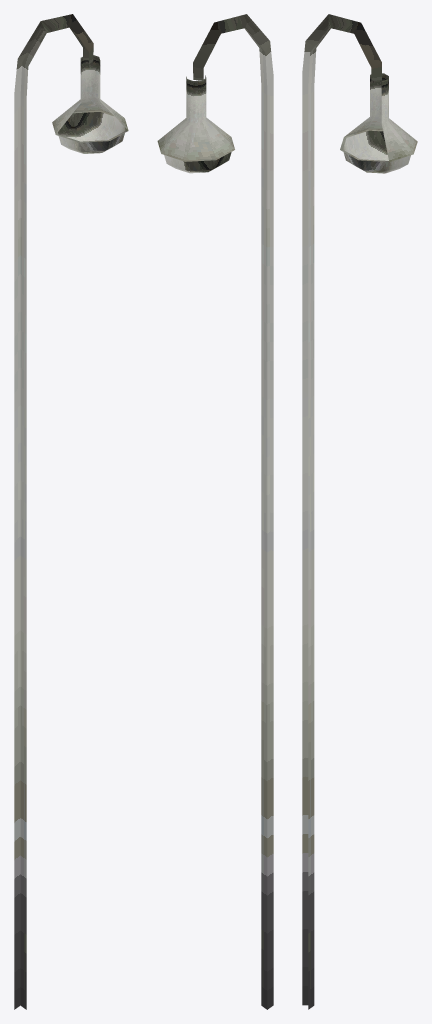
Rendered from stage-lake-p0-87.glb.
3 views of the same model, side by side, from view 1: azimuth 30°, elevation 25°; view 2: azimuth 210°, elevation 25°; view 3: azimuth 330°, elevation 25° (orthographic).
Bounding box in the file's own units: 1 × 8.53 × 0.6198.
Materials: 1 (1 with a texture image).
